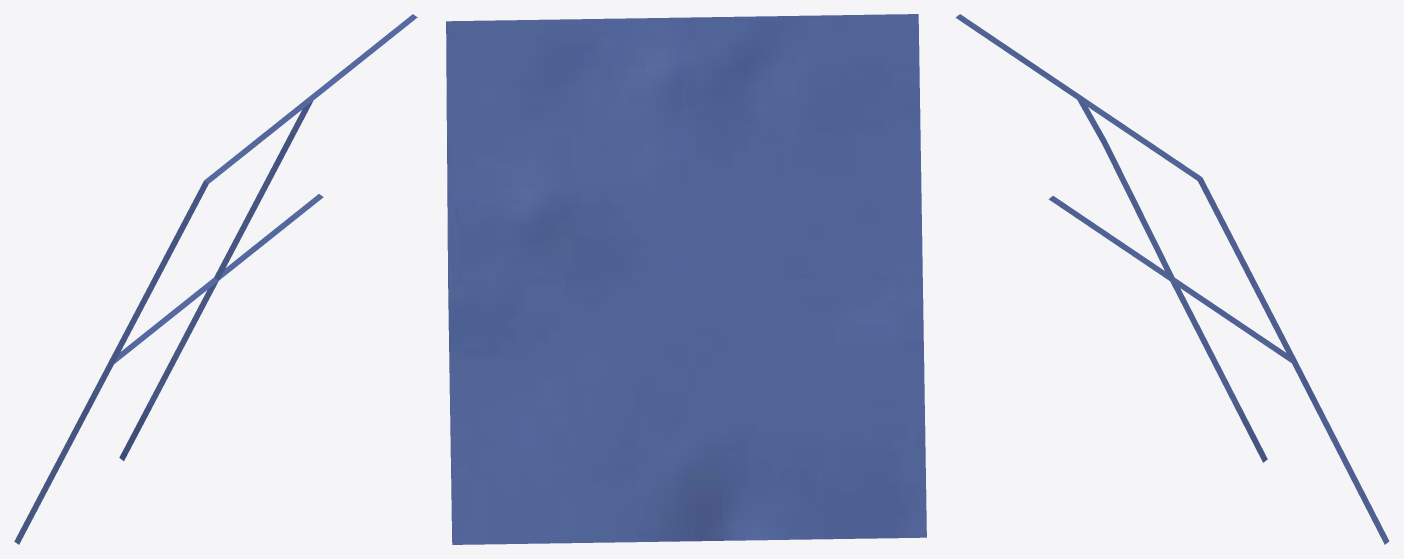
3 renders of one model, left to right at view 1: azimuth 30°, elevation 25°; view 2: azimuth 150°, elevation 25°; view 3: azimuth 270°, elevation 25°, orthographic. The views are drawn at different scales.
Bounding box in the file's own units: 19632 × 17797 × 16840.
1 material, 1 textured.
